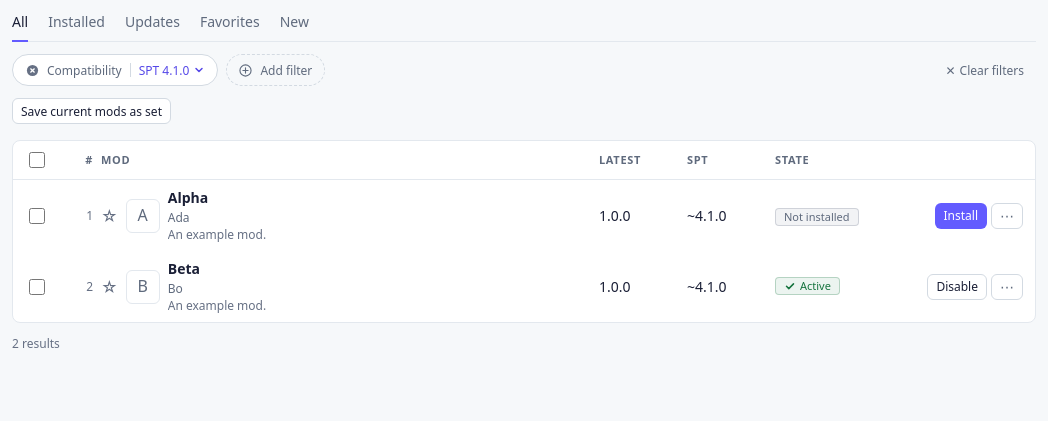
Test: selecting rows › takes every visible row with the header checkbox and drops them all again
The image size is (1048, 421).
Expected: the checkbox named "Select Alpha" is shown, [29,208,45,224]
Click the checkbox named "Select all mods".
click(37, 160)  # box [29,152,45,168]
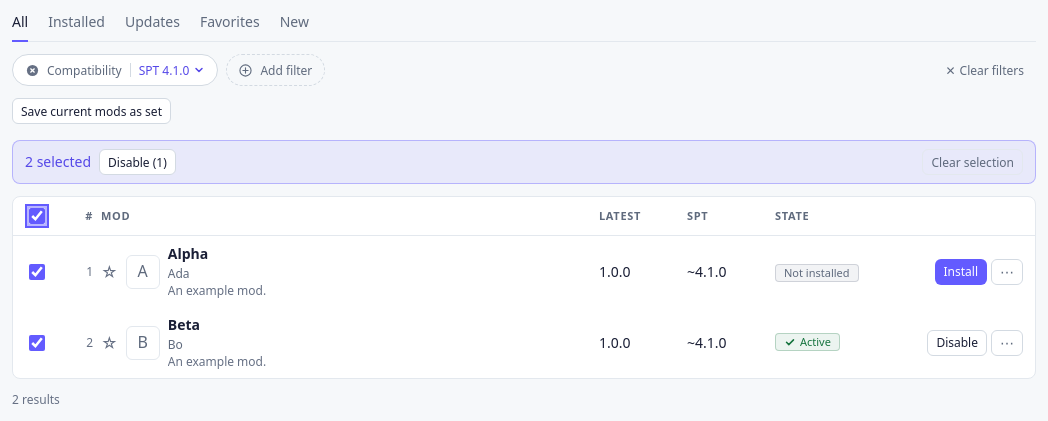
Result: the text "2 selected" is shown at [25,152,91,172]
Click the checkbox named "Select all mods".
click(37, 216)  # box [29,208,45,224]
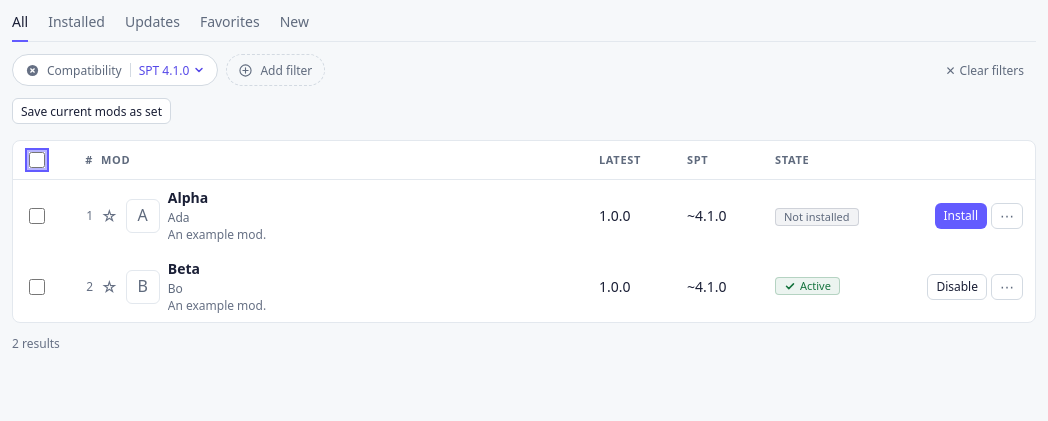
Result: the text "2 selected" is gone
